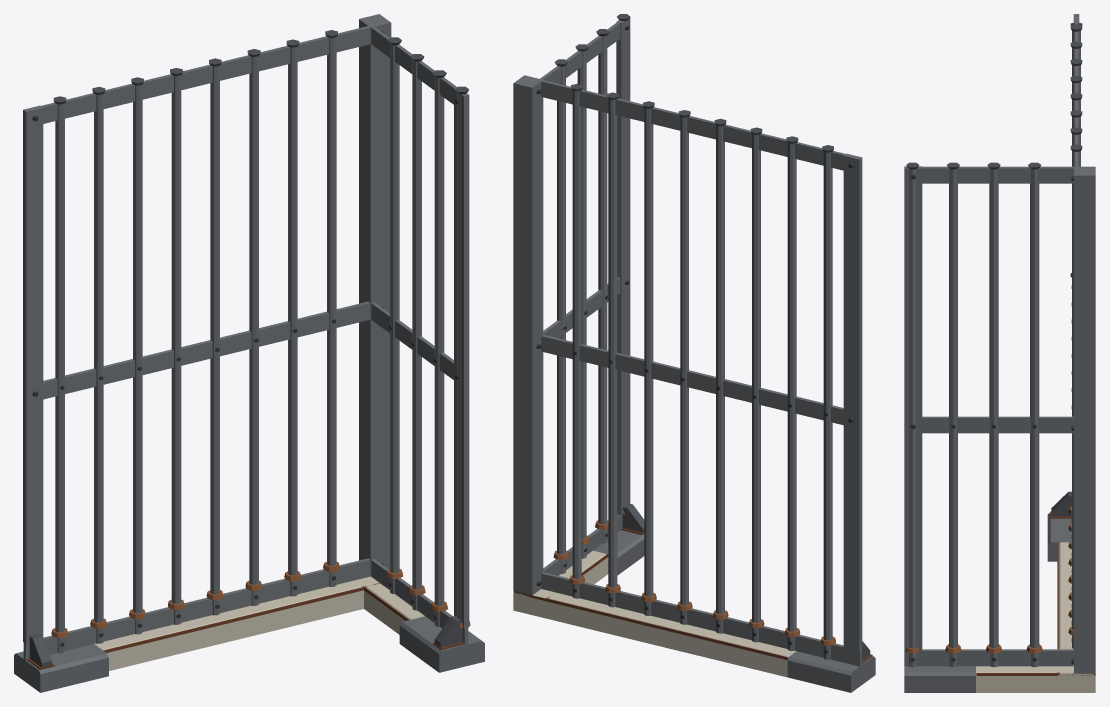
File: SM_LPD_Prison_PartitionCorner_01.fbx
3 views of the same model, side by side, from view 1: azimuth 30°, elevation 25°; view 2: azimuth 150°, elevation 25°; view 3: azimuth 270°, elevation 25° (orthographic). The views are drawn at different scales.
Parts seen in each view (by area): view 1: SM_LPD_Prison_PartitionCorner_01; view 2: SM_LPD_Prison_PartitionCorner_01; view 3: SM_LPD_Prison_PartitionCorner_01.
Boxes of the visible parts, x1,y1,x2,y2 form: SM_LPD_Prison_PartitionCorner_01: [14, 14, 484, 692]; SM_LPD_Prison_PartitionCorner_01: [513, 14, 875, 692]; SM_LPD_Prison_PartitionCorner_01: [904, 14, 1095, 692].
Size of the model in its own units: 1.6 by 2.4 by 0.8.
